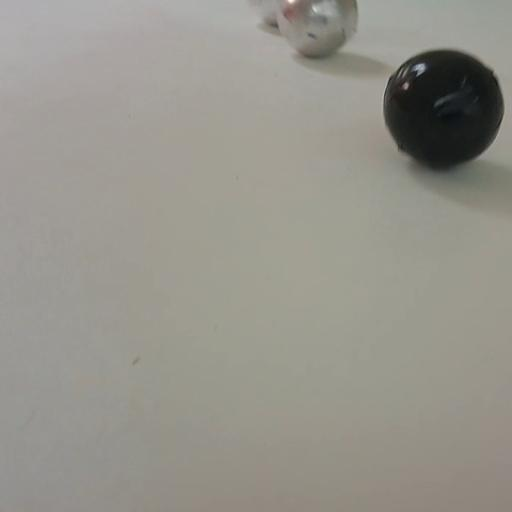alive: (276, 1, 356, 58), (250, 1, 285, 25)
dead: (380, 45, 507, 171)
